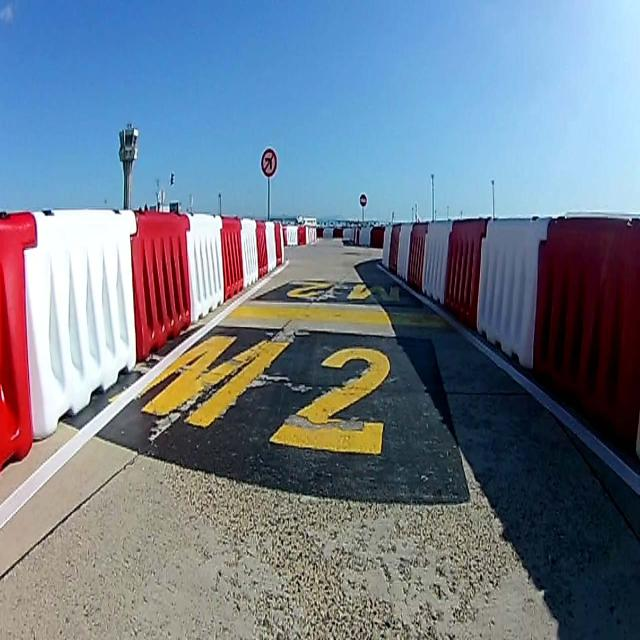soladonulmez: (261, 149, 277, 177)
